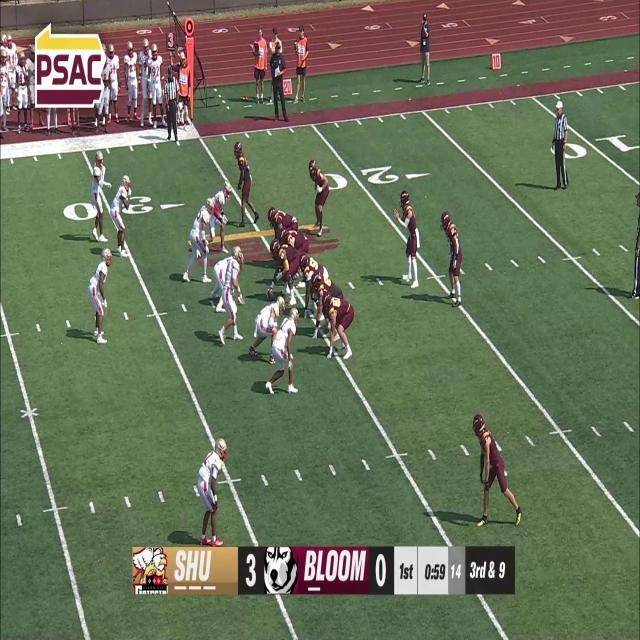football: (266, 288, 274, 302)
